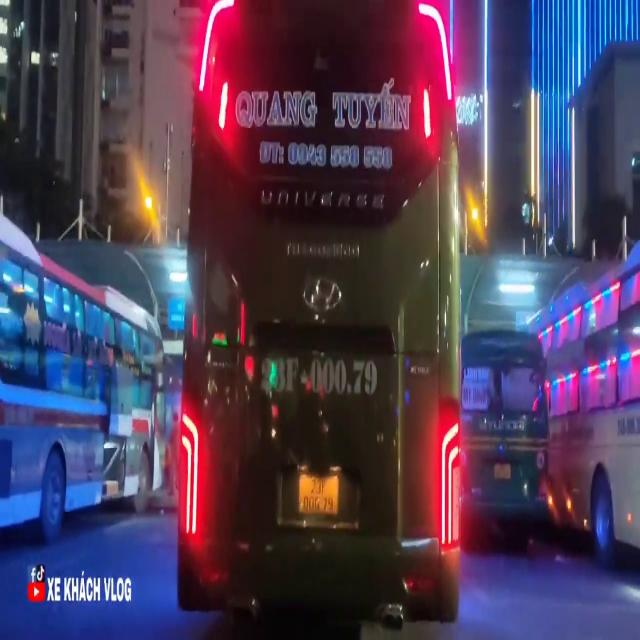bien_vang: (300, 466, 338, 518)
